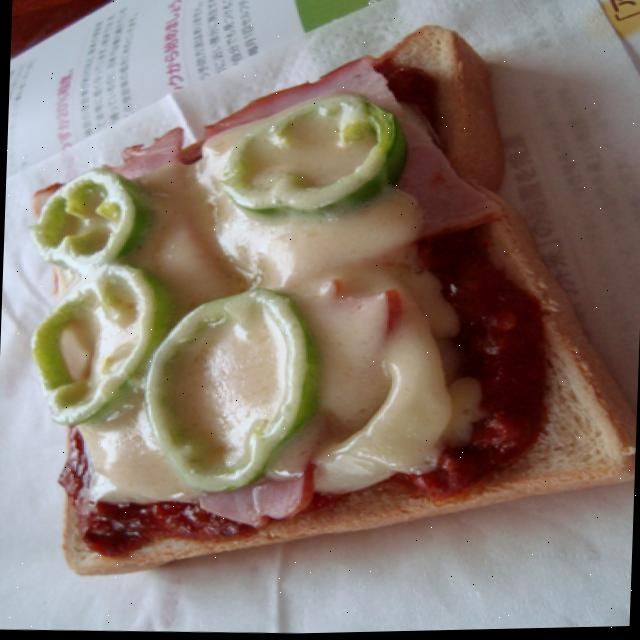面包点心: (5, 4, 640, 607)
